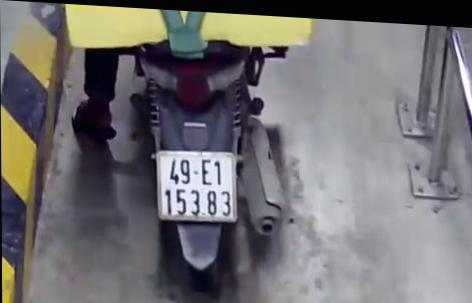License_Plate: (146, 144, 247, 234)
